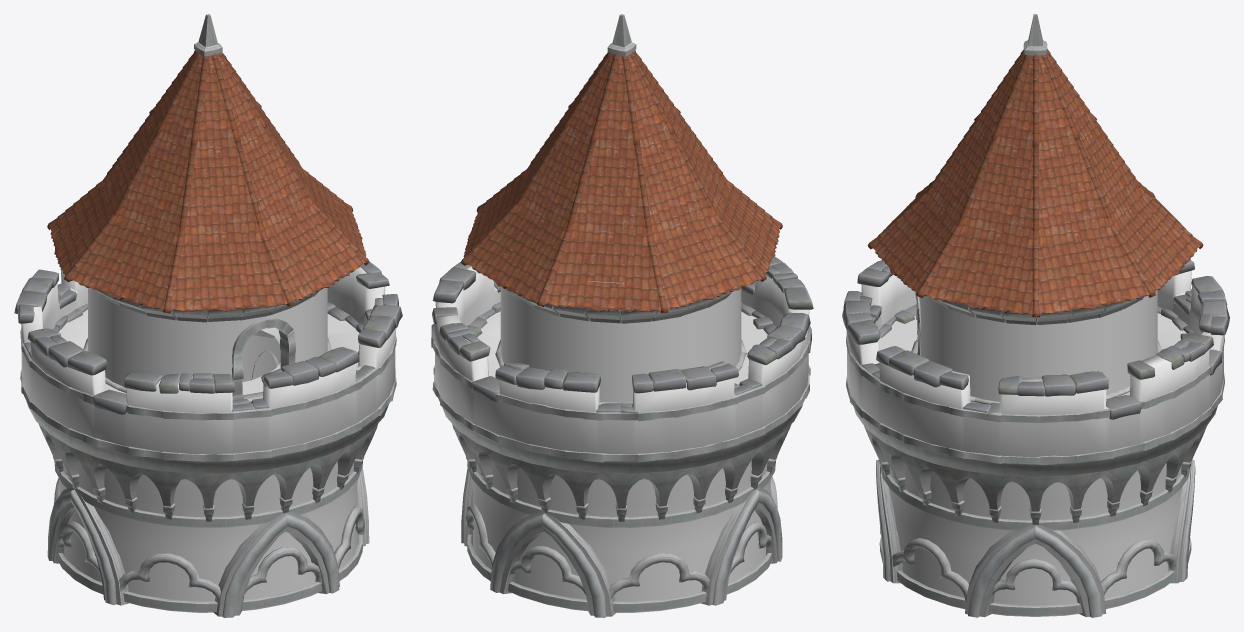
Rendered from SM_TowerB_Top_02.fbx.
3 renders of one model, left to right at view 1: azimuth 30°, elevation 25°; view 2: azimuth 150°, elevation 25°; view 3: azimuth 270°, elevation 25°, orthographic.
Visible parts, largest first — view 1: SM_TowerB_Top_02_LOD0; view 2: SM_TowerB_Top_02_LOD0; view 3: SM_TowerB_Top_02_LOD0.
Boxes of the visible parts, bbox=[...] form: SM_TowerB_Top_02_LOD0: bbox=[14, 14, 402, 617]; SM_TowerB_Top_02_LOD0: bbox=[431, 14, 813, 617]; SM_TowerB_Top_02_LOD0: bbox=[842, 14, 1229, 617].
Size of what is drawn, in the model's own units: 10.31 by 15.83 by 10.33.
